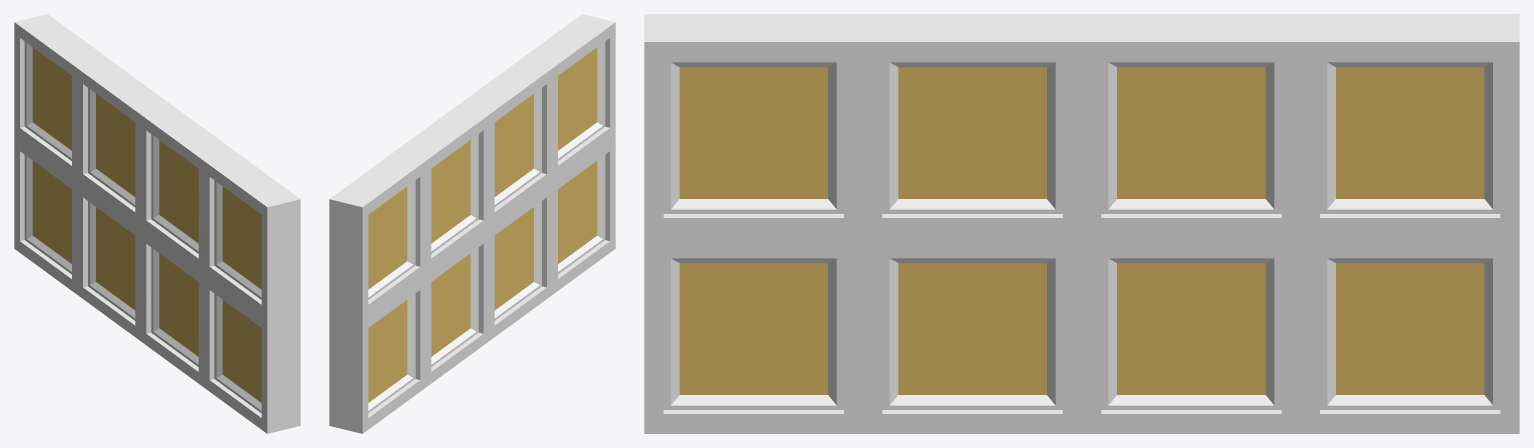
The model's file is Window_18.fbx.
The picture shows the model from 3 angles, left to right: view 1: azimuth 30°, elevation 25°; view 2: azimuth 150°, elevation 25°; view 3: azimuth 270°, elevation 25°; orthographic projection. The views are drawn at different scales.
Visible parts, largest first — view 1: Window_18; view 2: Window_18; view 3: Window_18.
Part boxes in pixels (box(x1,y1,x2,y2)): Window_18: box(14, 14, 300, 433); Window_18: box(329, 14, 615, 433); Window_18: box(644, 14, 1519, 433).
Size of the model in its own units: 0.1998 by 1.3 by 2.63.
